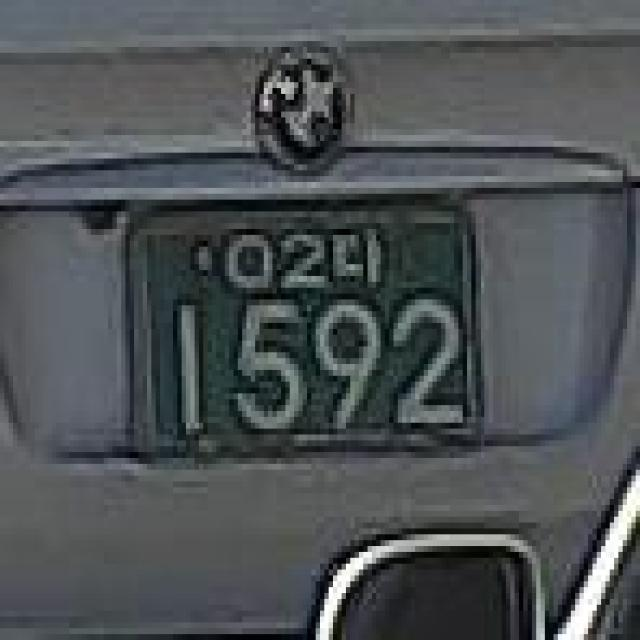illegal_plate: (116, 182, 499, 486)
